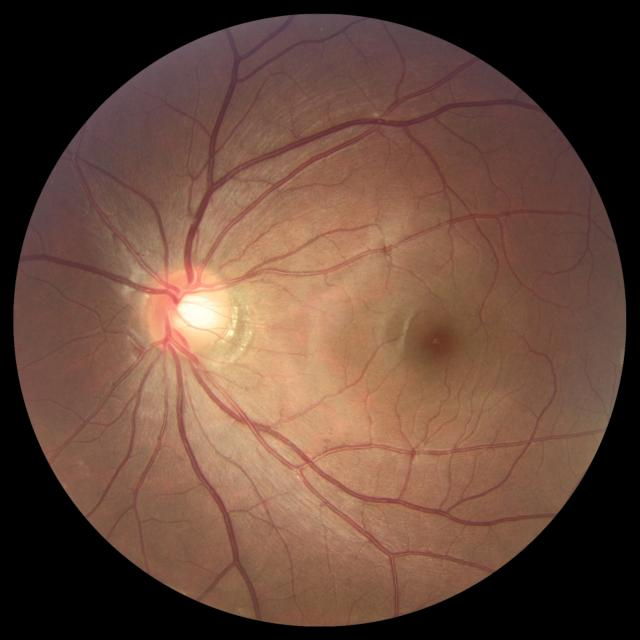OC: (171, 288, 220, 341)
OD: (142, 264, 236, 360)
